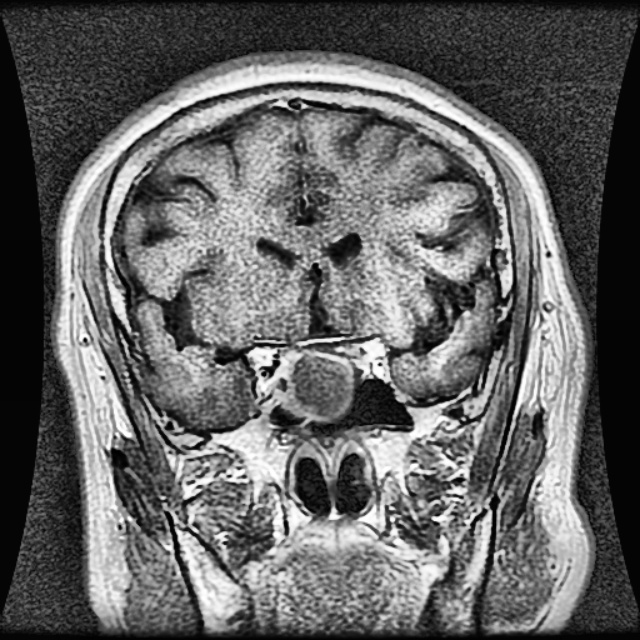Pituitary: (274, 348, 354, 423)
